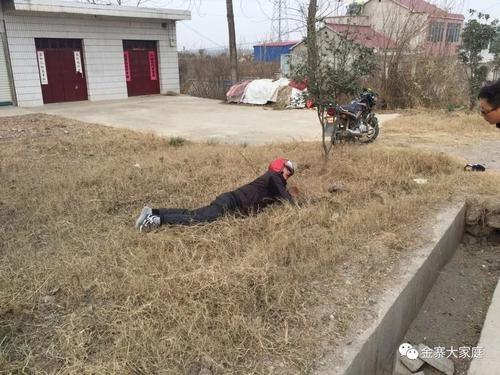falling: (133, 146, 310, 235)
